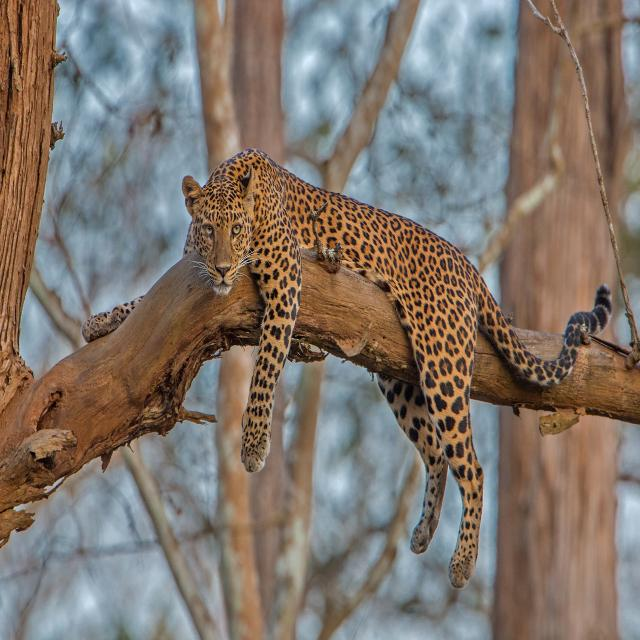Leopard: (180, 149, 614, 595)
